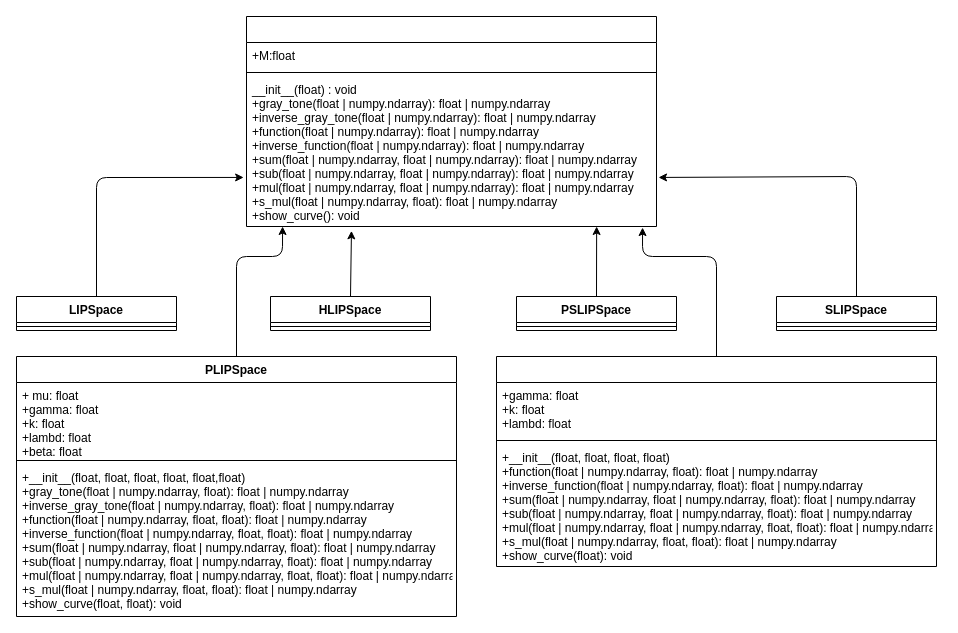
Some shapes in this 958 by 633 pixel diagram are drawn without their labels. The shapes that lost their labels are listed below. From the top down, each one's box as (x1, y1, x2, y2) in pixels, then its label:
(246, 16, 656, 226): LogSpace
(496, 356, 936, 566): PPSLIPSpace
